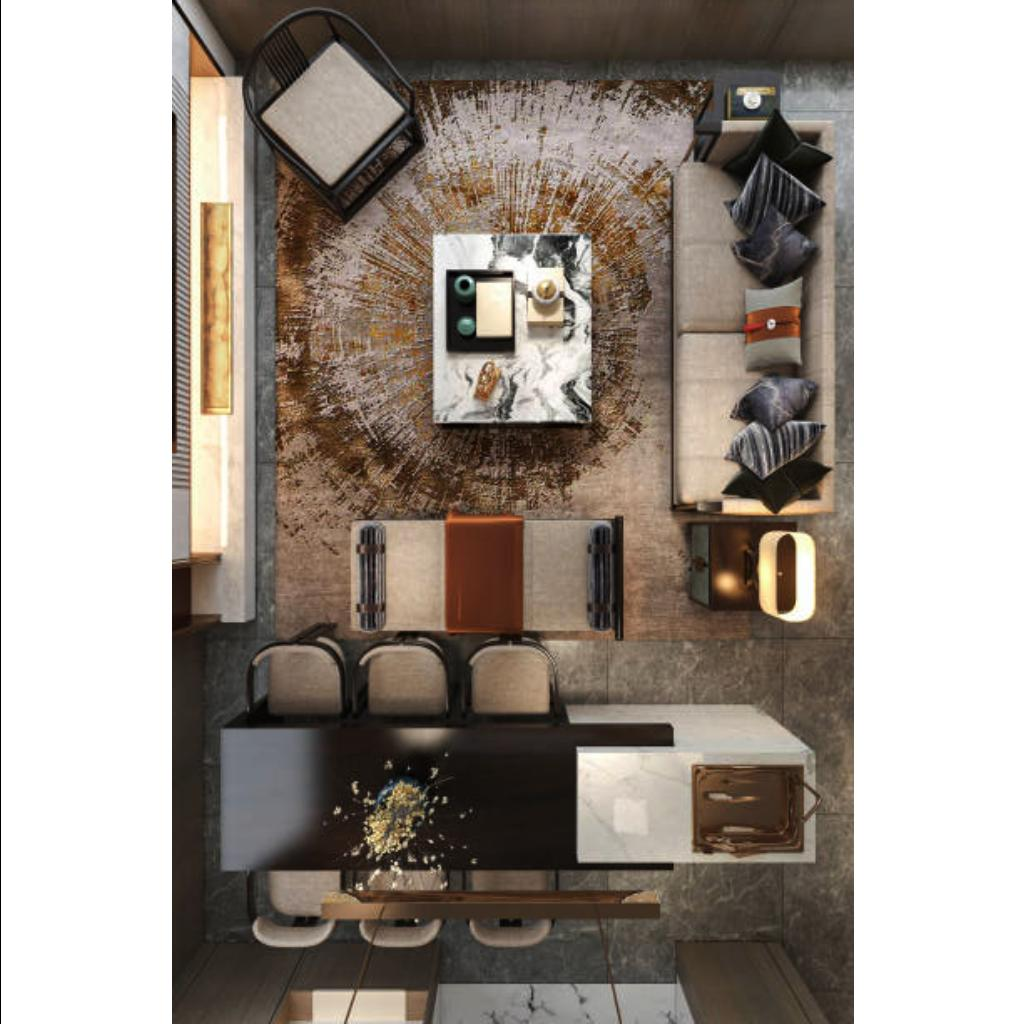TV stand: (171, 74, 233, 566)
bar counter: (221, 724, 813, 872)
bench: (350, 518, 622, 628)
cabinet: (683, 524, 797, 608)
chair: (244, 8, 426, 222)
coffee table: (434, 232, 590, 422)
modular kitchen: (172, 950, 802, 1024)
rug: (273, 80, 715, 666)
side table: (726, 82, 776, 114)
sofa: (670, 117, 838, 515)
stool: (244, 623, 350, 713), (459, 870, 561, 950), (464, 634, 558, 710), (360, 637, 456, 711), (243, 872, 337, 946), (352, 874, 446, 948)
